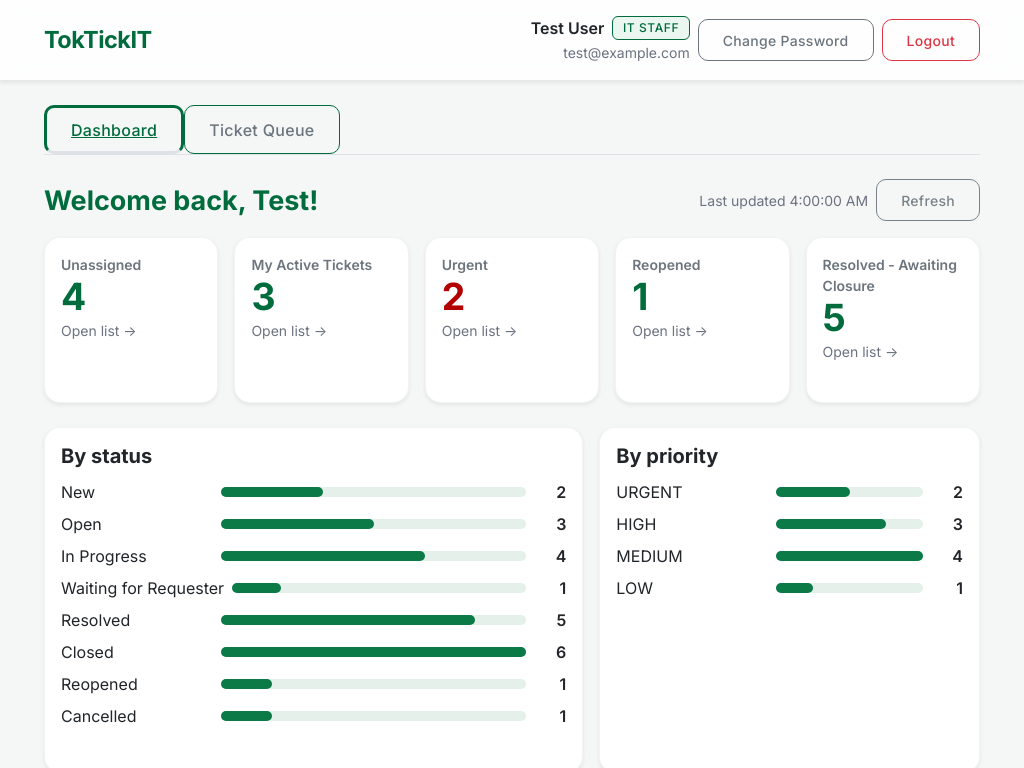
Test: UI-25: role navigation, landing page and dashboard drill-down (Issue #33) › opening the queue from the menu clears the filters of an earlier drill-down
This screenshot has width=1024, height=768.
Click the link with aria-label "Reopened: 1. Open list" at (702, 320), box [615,237,790,403]
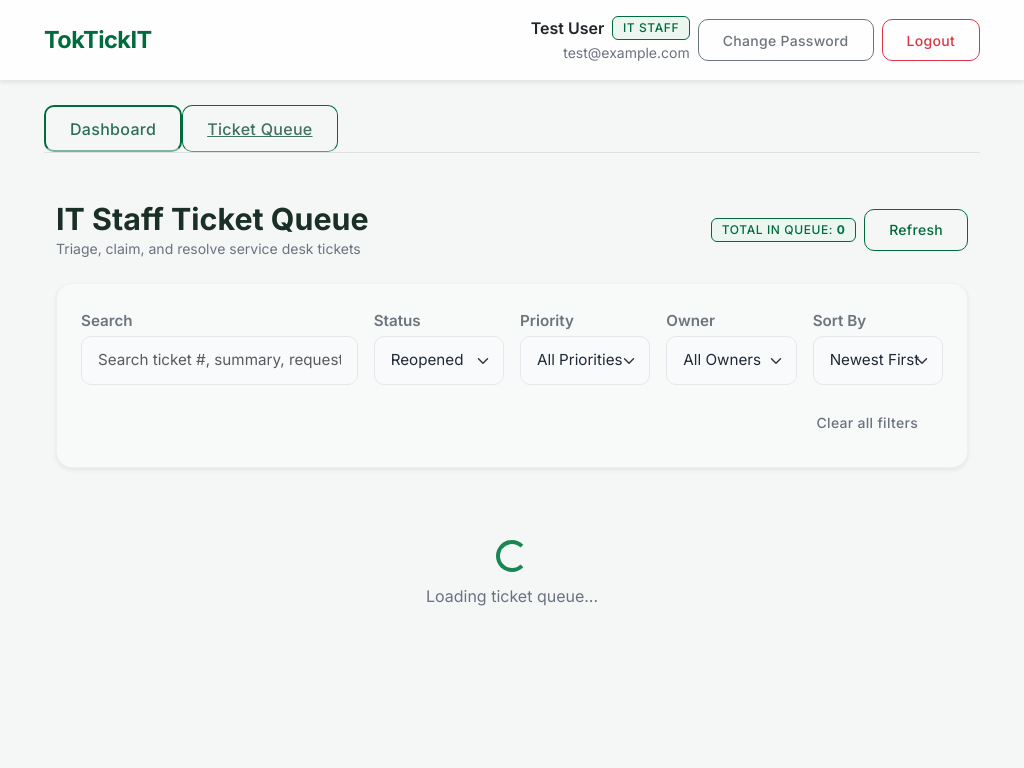
Expected: the dropdown labelled "Status" shows "Reopened", [374,336,504,385]
Click the button "Dashboard" at (112, 129), box [44,105,180,152]
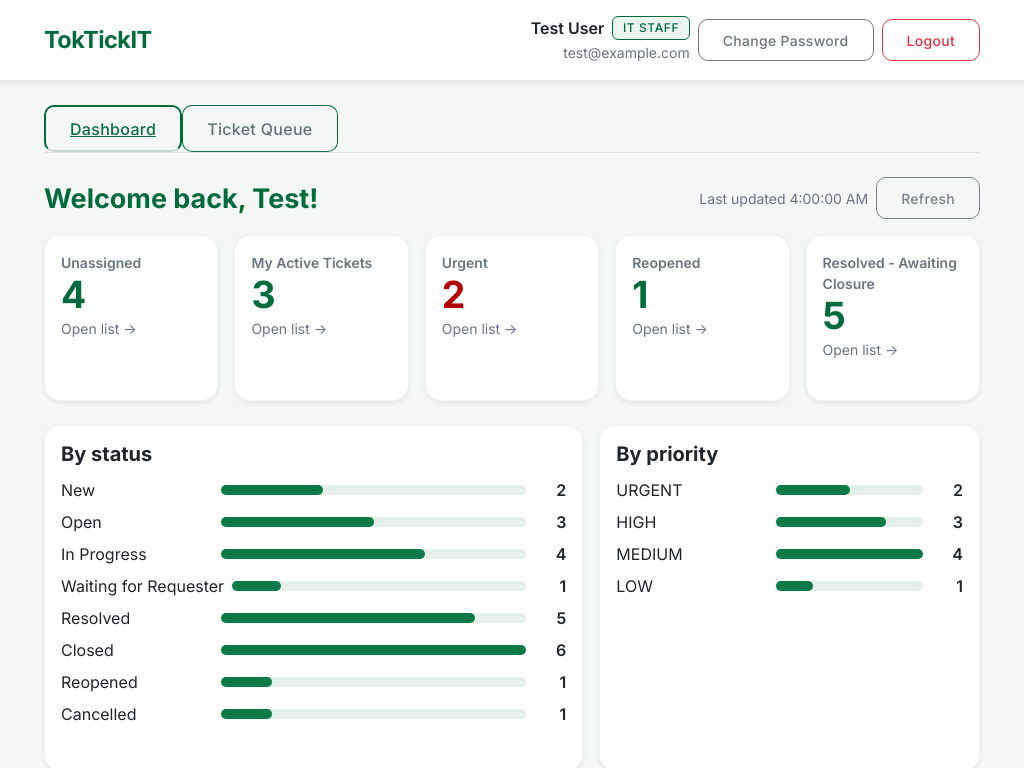
Expected: the link with aria-label "Reopened: 1. Open list" is shown, [615,235,790,401]
Click the button "Ticket Queue" at (260, 129), box [182,105,338,152]
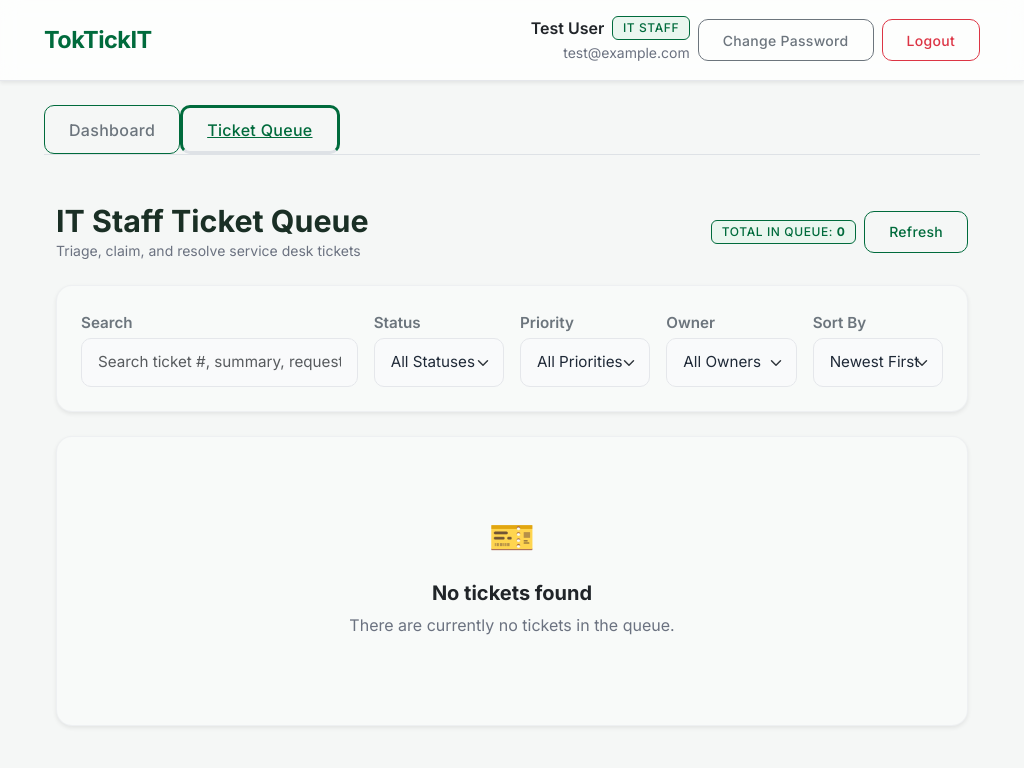
Expected: the dropdown labelled "Status" shows "All Statuses", [374,338,504,387]
